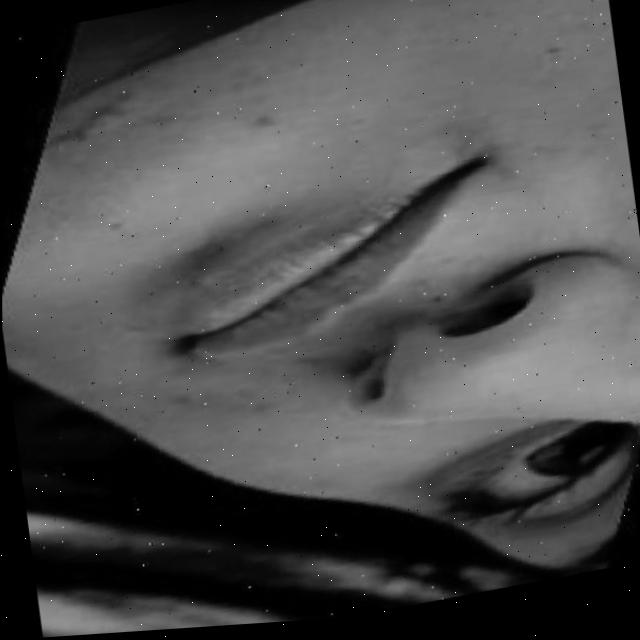Acne: (39, 48, 289, 214), (170, 342, 272, 454)
